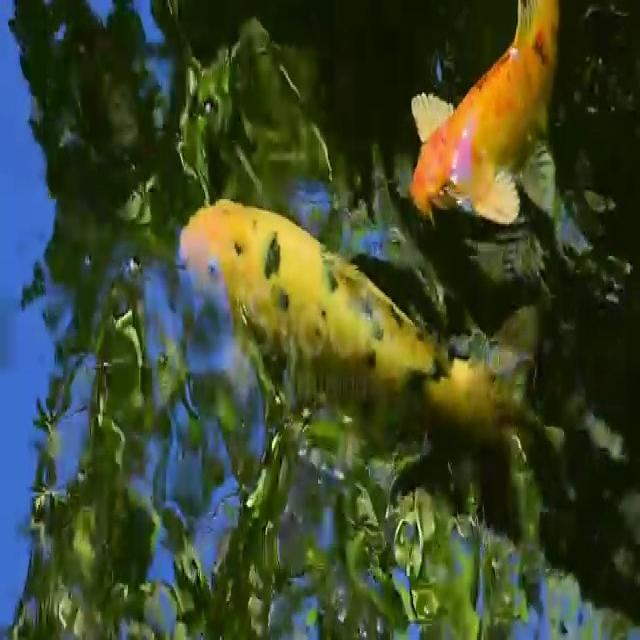fish: (174, 196, 544, 447), (388, 0, 578, 225)
